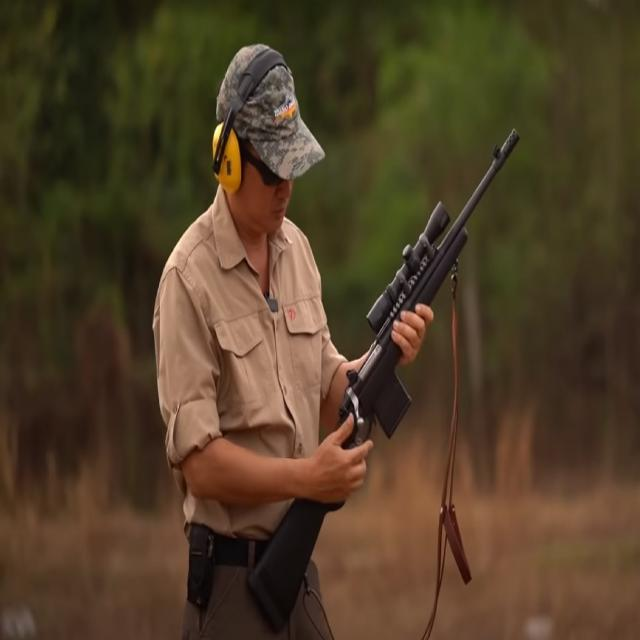rifle: (242, 110, 525, 638)
